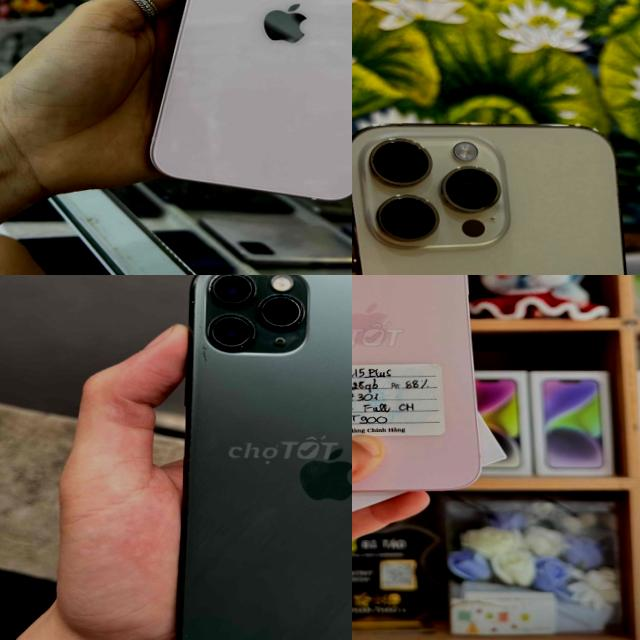gen_11: (170, 275, 352, 640)
gen_12_13: (139, 0, 352, 209)
gen_14: (352, 107, 640, 275)
gen_15: (352, 275, 504, 502)
